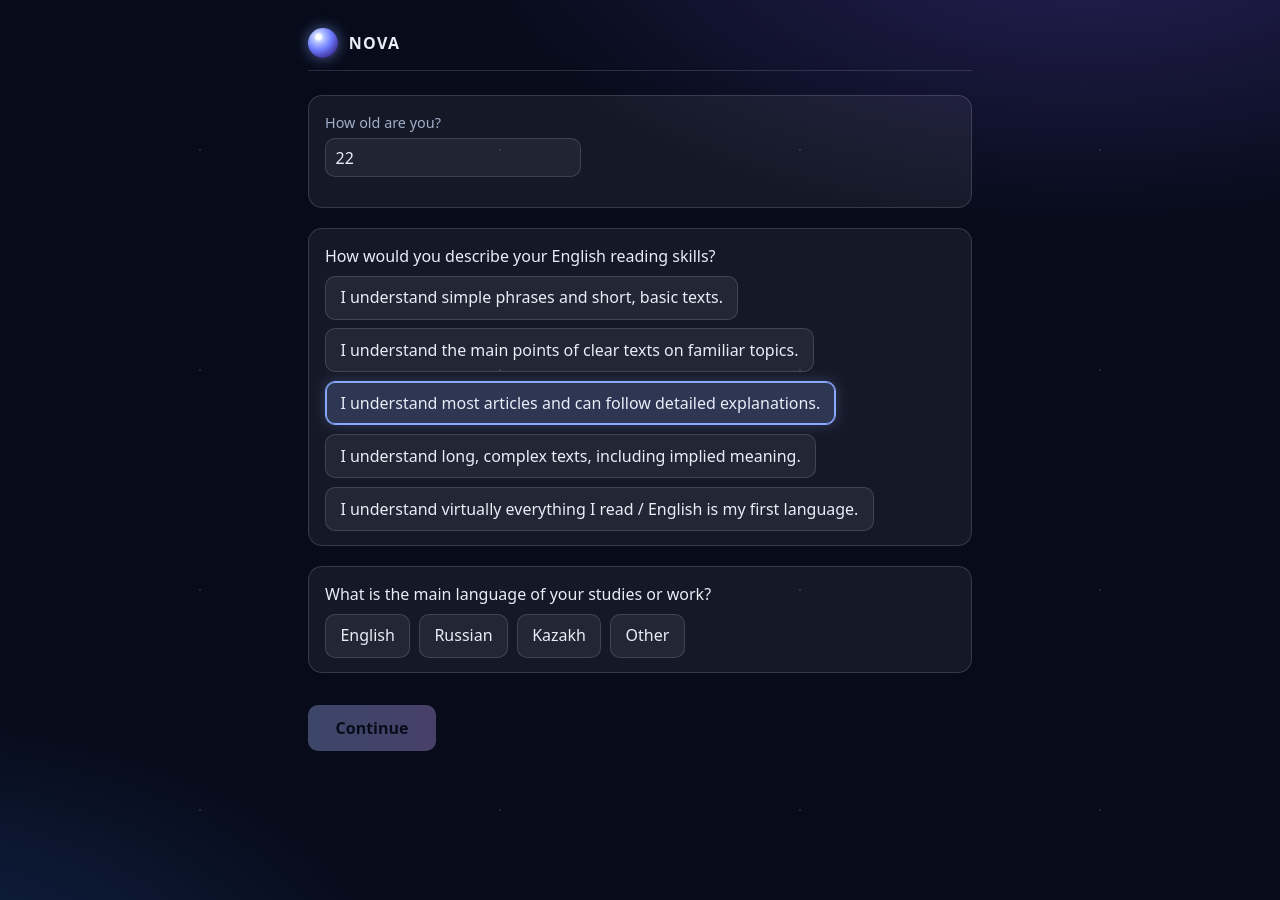
it: lesson › uses the neutral line in a neutral cell
The width and height of the screenshot is (1280, 900).
Earlier steps of the test are not shown.
Later steps or results of the test are not shown.
Click the radio button with test id "study-language-English" at (368, 636), box [325,614,410,658]
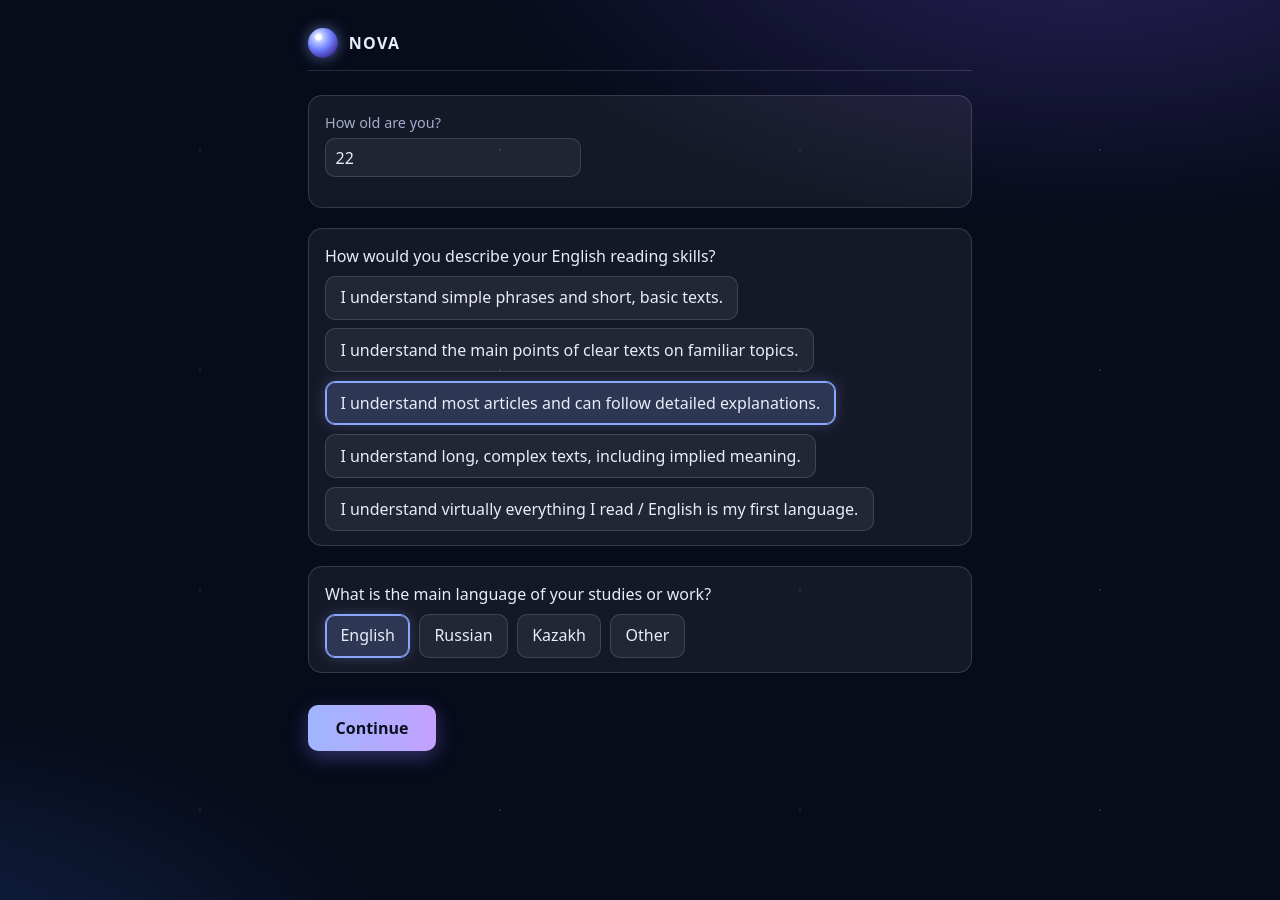
Click the button with test id "screening-submit" at (372, 728), box [308,705,436,751]
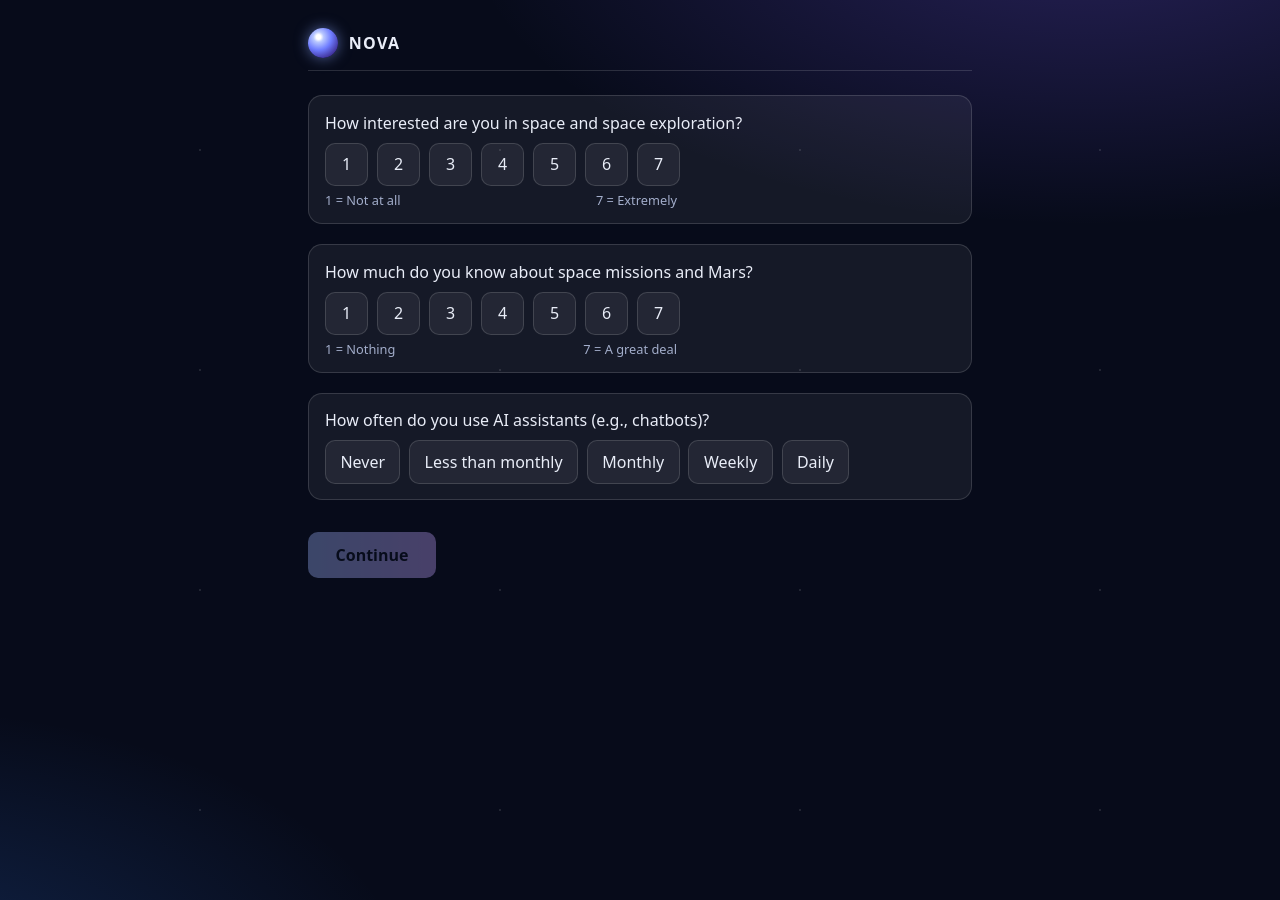
Click the 1st radio button labelled "4" at (503, 164), box [481,143,524,186]
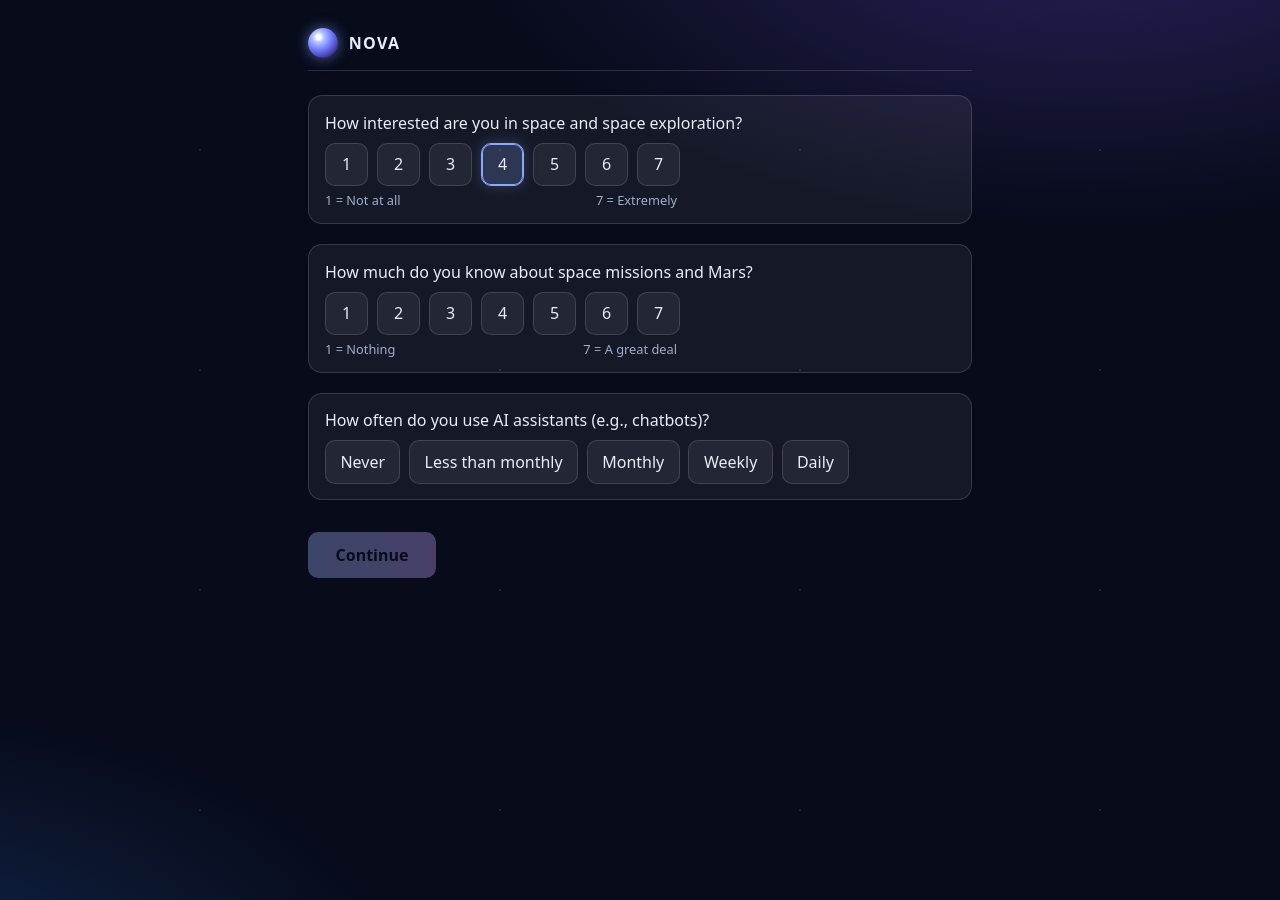
Click the 2nd radio button labelled "4" at (503, 313), box [481,292,524,335]
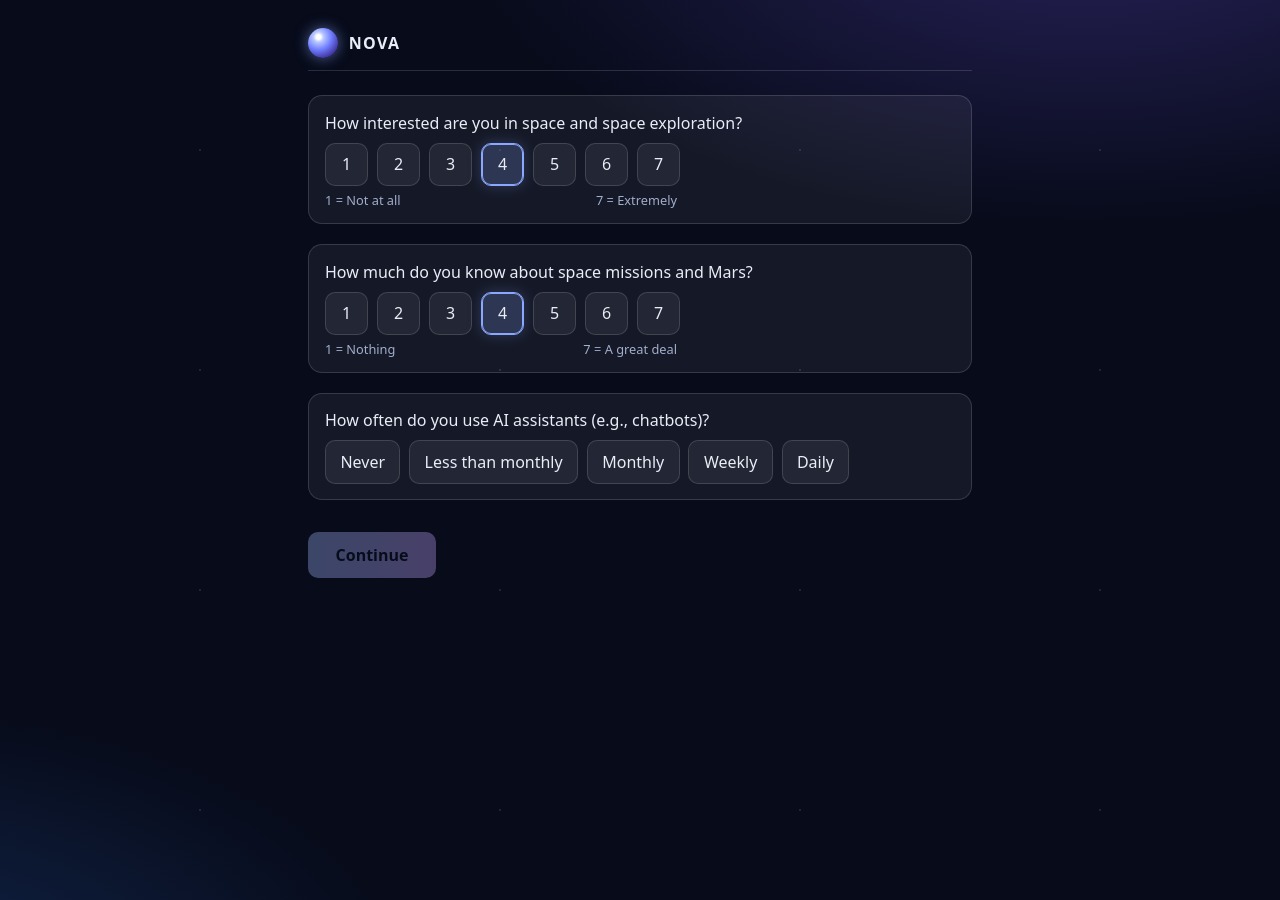
Click the radio button with test id "P3-2" at (494, 462), box [409,440,578,484]
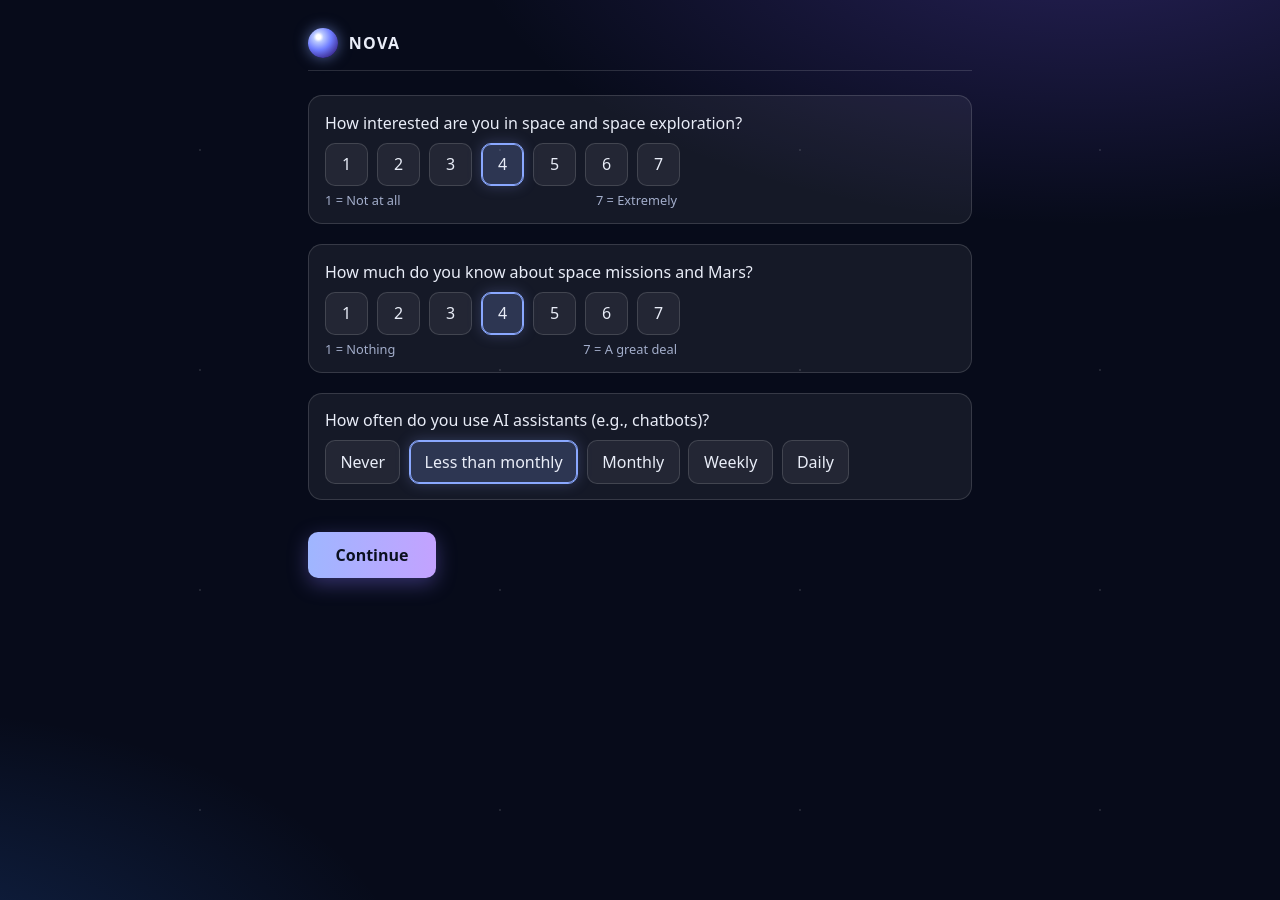
Click the button with test id "pre-submit" at (372, 555), box [308,532,436,578]
Wait 2800 ms
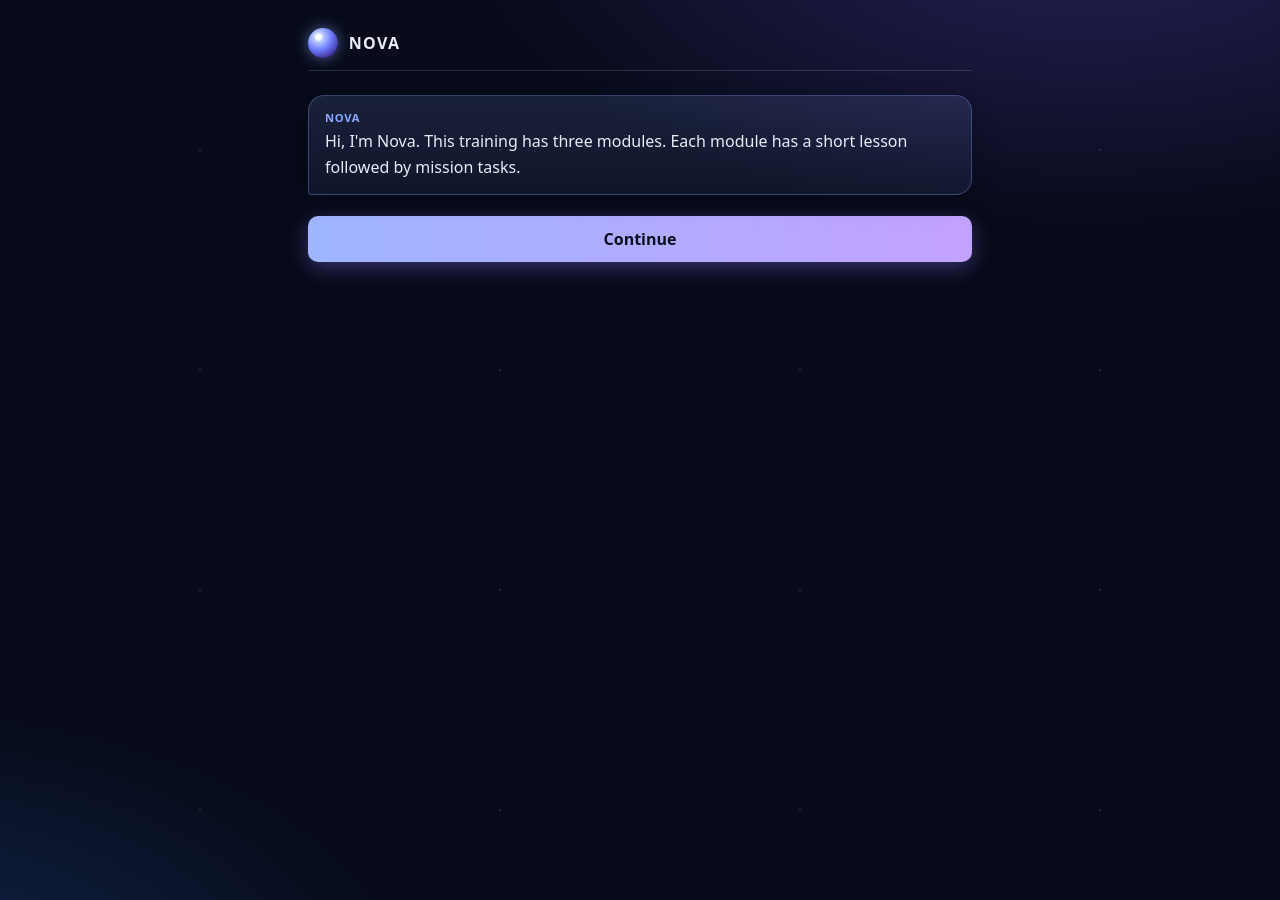
Expected: the element with test id "nova-message" shows "Hi, I'm Nova. This training has three modules. Each module has a short lesson followed by mission tasks.", [325,130,907,178]
